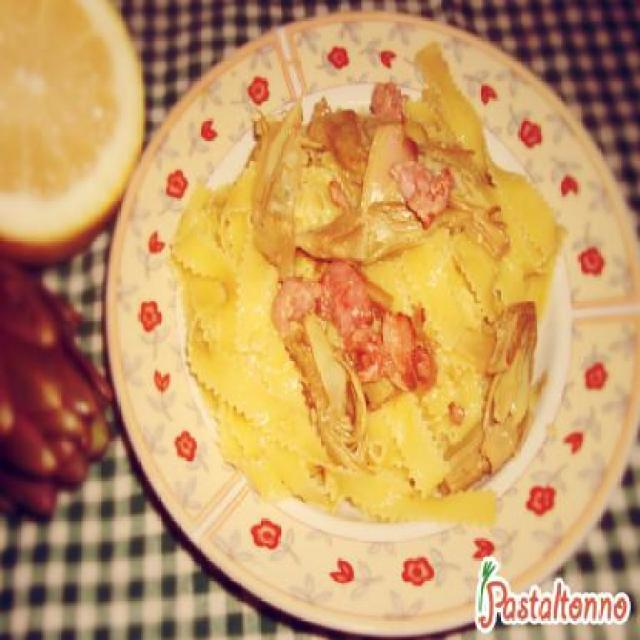Pasta with carbonara sauce: (138, 48, 620, 548)
